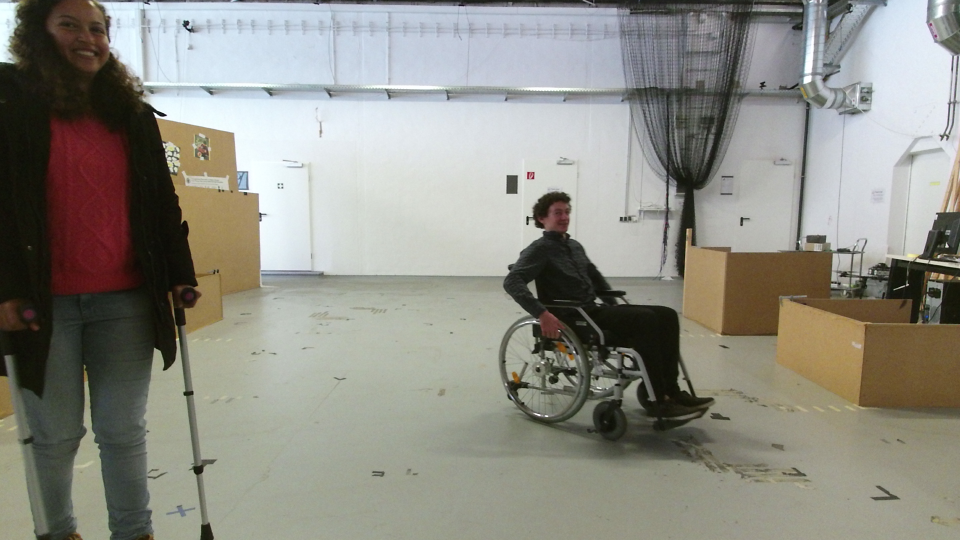crutches: (1, 1, 229, 540)
wheelchair: (495, 187, 721, 449)
